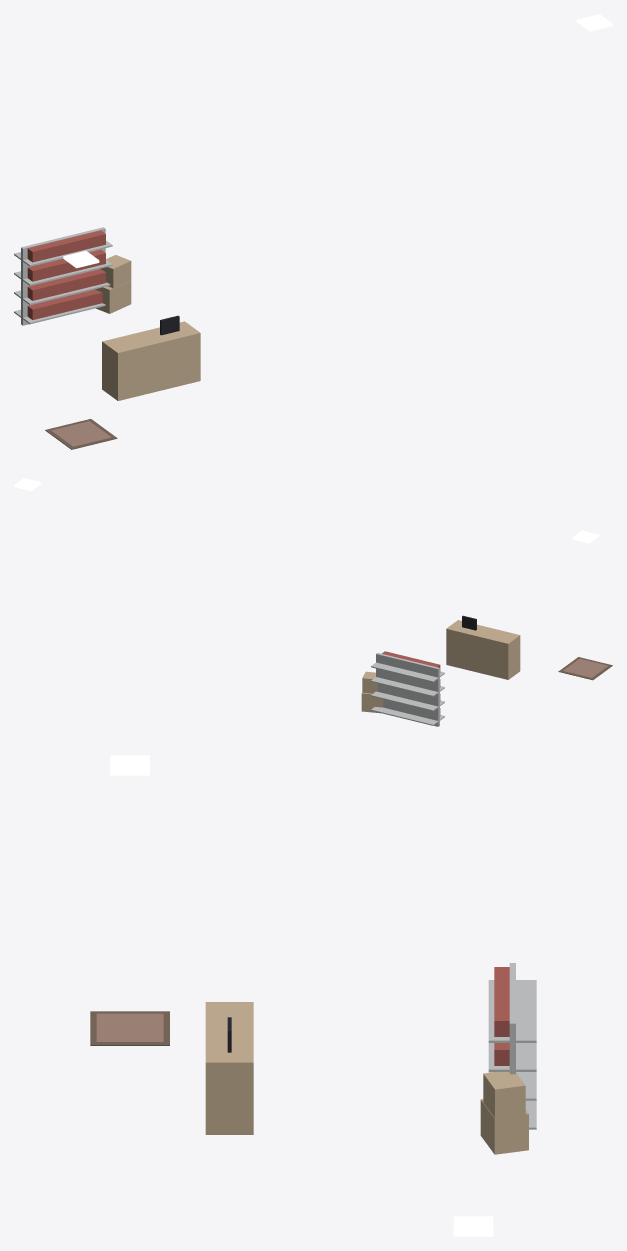
File: fine-s0.glb
The picture shows the model from 3 angles, top to bottom: view 1: azimuth 30°, elevation 25°; view 2: azimuth 150°, elevation 25°; view 3: azimuth 270°, elevation 25°; orthographic projection. The views are drawn at different scales.
Parts seen in each view (by area): view 1: shelving.000, shop-counter.000, cardboard-box.000, soft-s0; view 2: shelving.000, shop-counter.000, soft-s0, cardboard-box.000; view 3: shop-counter.000, shelving.000, cardboard-box.000, soft-s0, ceiling-lamp.001, ceiling-lamp.000.
Boxes of the visible parts, bbox=[...] form: shelving.000: bbox=[14, 227, 112, 325]; shop-counter.000: bbox=[102, 315, 200, 400]; cardboard-box.000: bbox=[95, 255, 131, 313]; soft-s0: bbox=[45, 419, 117, 449]; shelving.000: bbox=[371, 651, 444, 726]; shop-counter.000: bbox=[446, 615, 520, 679]; soft-s0: bbox=[558, 657, 612, 680]; cardboard-box.000: bbox=[361, 671, 383, 713]; shop-counter.000: bbox=[205, 1002, 253, 1134]; shelving.000: bbox=[488, 963, 536, 1129]; cardboard-box.000: bbox=[480, 1072, 528, 1154]; soft-s0: bbox=[90, 1011, 169, 1045]; ceiling-lamp.001: bbox=[453, 1216, 493, 1236]; ceiling-lamp.000: bbox=[110, 755, 149, 775].
Bounding box in the file's own units: 14.42 × 3.67 × 5.59.
